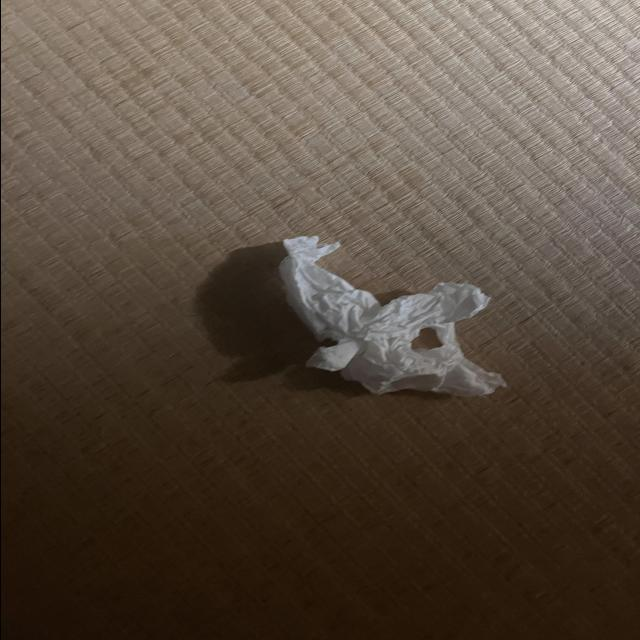Paper: (272, 219, 504, 429)
